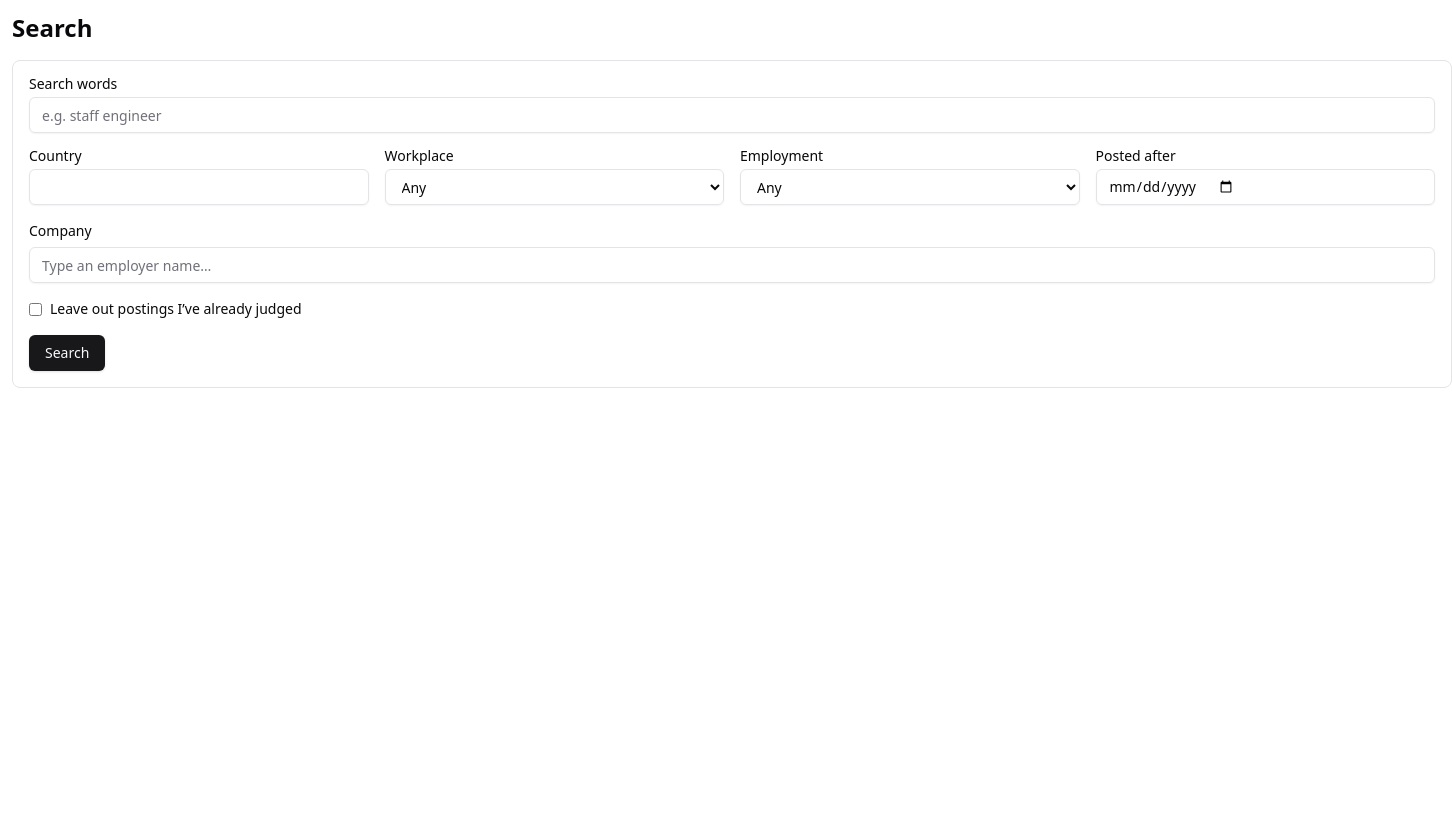
Scenario: SearchView › renders an Add to tab action on each result
The width and height of the screenshot is (1452, 822).
What coordinates should you click on to do the following:
click the button "Search"
I would click on:
 (67, 353)
Its box is [29,335,105,371].
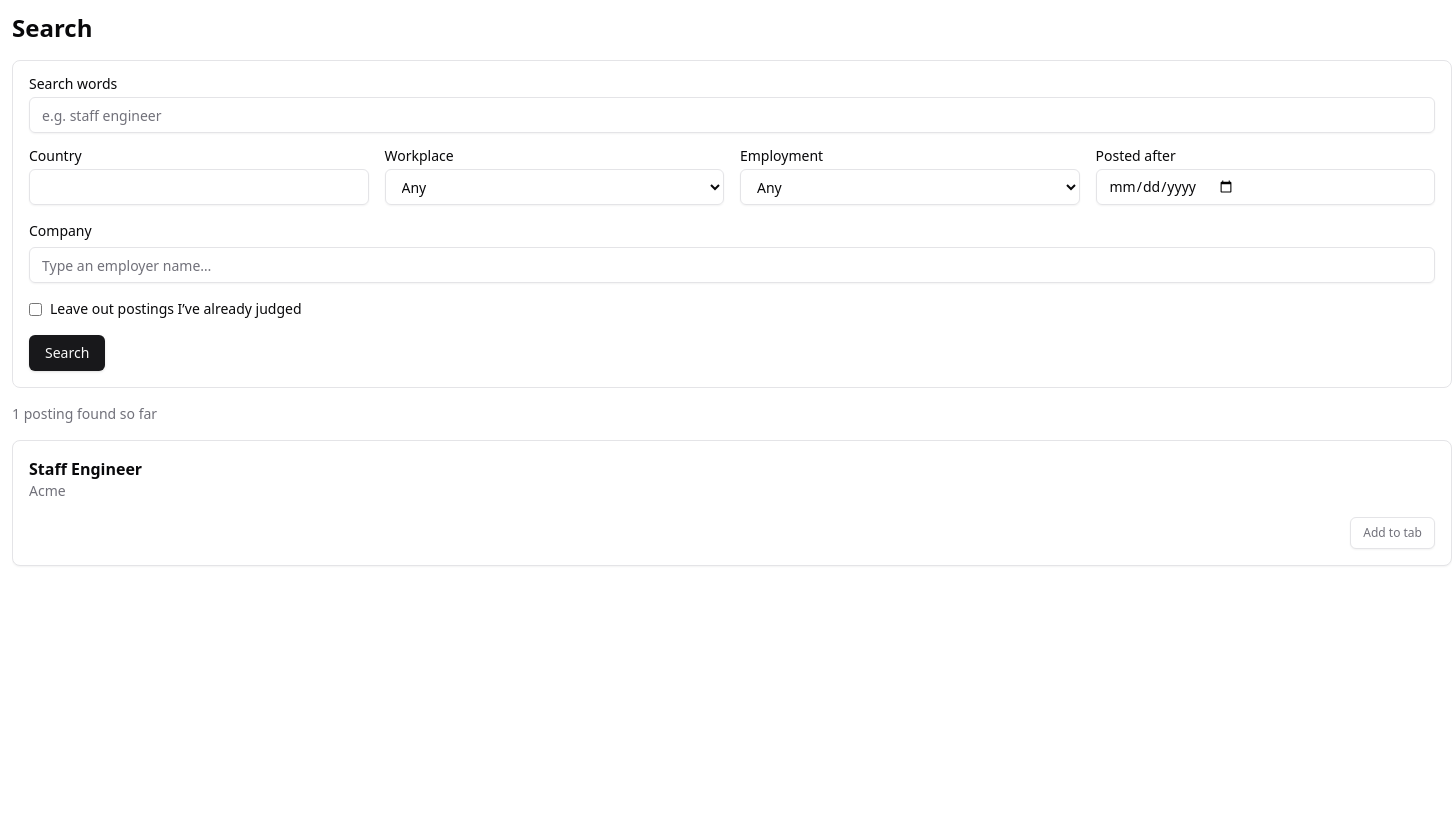
Expected: the link "Staff Engineer" is shown, [29,458,142,480]
Expected: the button "Add to tab" is shown, [1350,517,1435,549]
